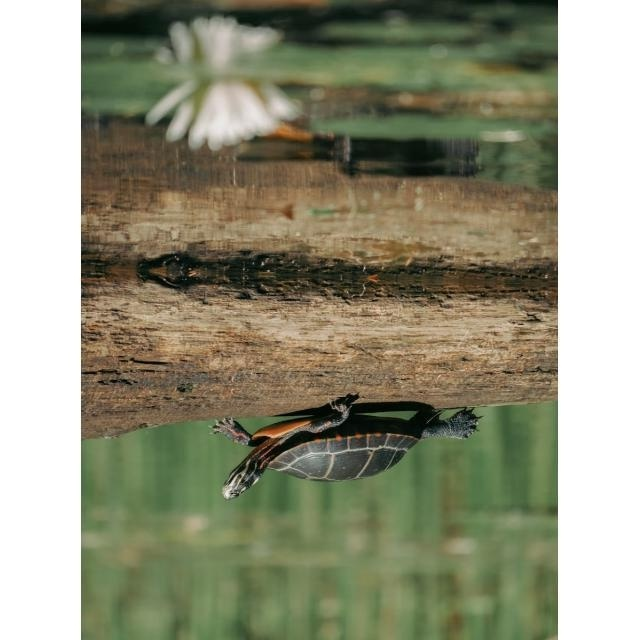turtle: (208, 398, 483, 501)
